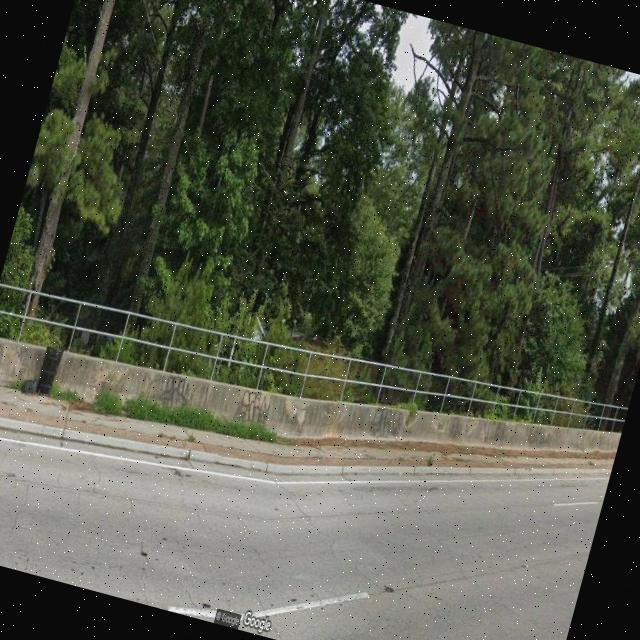trash_can: (34, 342, 64, 397)
